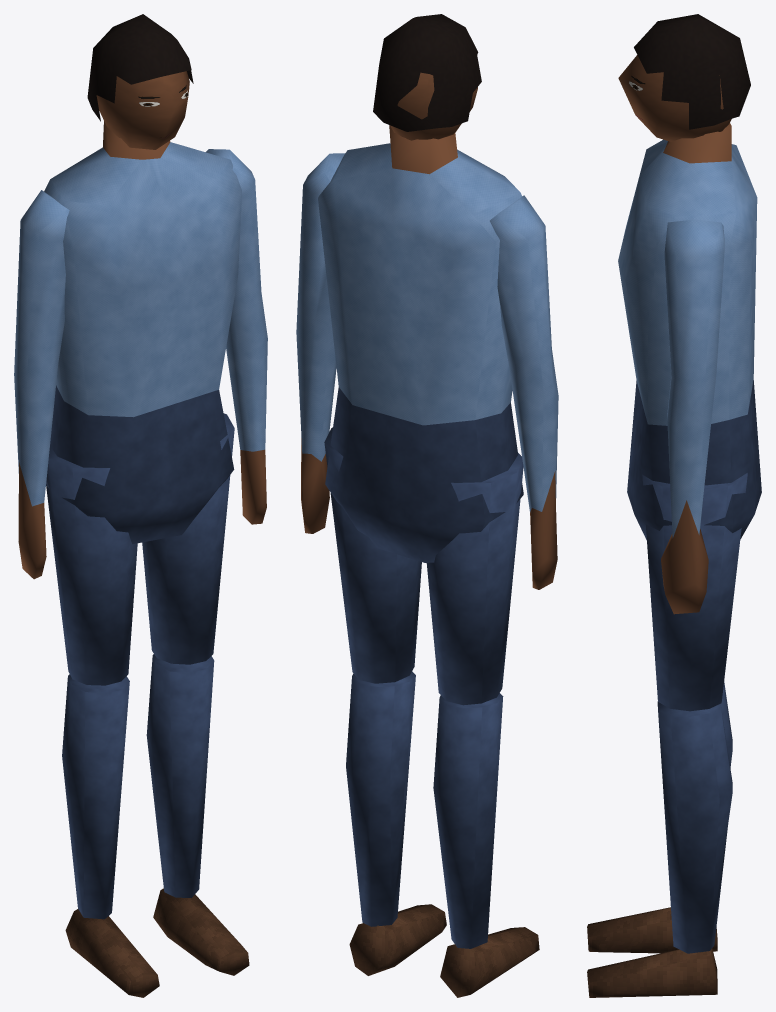
Rendered from persona_hombre_b_lod.obj.
The picture shows the model from 3 angles, left to right: view 1: azimuth 30°, elevation 25°; view 2: azimuth 150°, elevation 25°; view 3: azimuth 270°, elevation 25°; orthographic projection. The views are drawn at different scales.
Visible parts, largest first — view 1: Torso, PiernaIzq, PiernaDer, BrazoDer, MusloDer, MusloIzq, BrazoIzq, Pelo, Cabeza; view 2: Torso, PiernaDer, PiernaIzq, BrazoDer, MusloDer, MusloIzq, BrazoIzq, Pelo, Cabeza; view 3: Torso, PiernaIzq, BrazoIzq, MusloIzq, Pelo, PiernaDer, Cabeza.
Boxes of the visible parts, bbox=[...] form: Torso: bbox=[44, 121, 241, 544]; PiernaIzq: bbox=[146, 654, 249, 975]; PiernaDer: bbox=[62, 674, 159, 997]; BrazoDer: bbox=[14, 190, 69, 579]; MusloDer: bbox=[46, 446, 137, 685]; MusloIzq: bbox=[142, 413, 234, 664]; BrazoIzq: bbox=[205, 149, 267, 524]; Pelo: bbox=[87, 14, 193, 121]; Cabeza: bbox=[96, 71, 189, 149]; Torso: bbox=[318, 125, 523, 562]; PiernaDer: bbox=[433, 693, 539, 997]; PiernaIzq: bbox=[346, 671, 446, 975]; BrazoDer: bbox=[490, 195, 558, 589]; MusloDer: bbox=[426, 453, 523, 705]; MusloIzq: bbox=[324, 427, 421, 683]; BrazoIzq: bbox=[296, 153, 345, 533]; Pelo: bbox=[373, 14, 481, 131]; Cabeza: bbox=[390, 72, 477, 140]; Torso: bbox=[618, 123, 761, 540]; PiernaIzq: bbox=[587, 701, 732, 997]; BrazoIzq: bbox=[661, 219, 724, 614]; MusloIzq: bbox=[642, 473, 747, 711]; Pelo: bbox=[634, 14, 750, 129]; PiernaDer: bbox=[587, 681, 732, 953]; Cabeza: bbox=[618, 55, 731, 141].
Bounding box in the file's own units: 0.4813 × 1.74 × 0.2879.
Materials: 6 (6 with a texture image).
